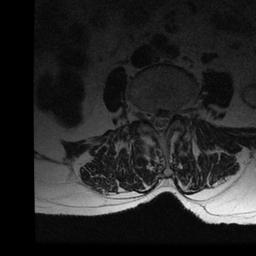CCS_normal: (156, 107, 164, 140)
LFS_stenosis: (172, 101, 179, 123)
LLS_normal: (164, 107, 172, 131)
RFS_normal: (140, 102, 147, 124)
RLS_normal: (147, 107, 156, 131)
